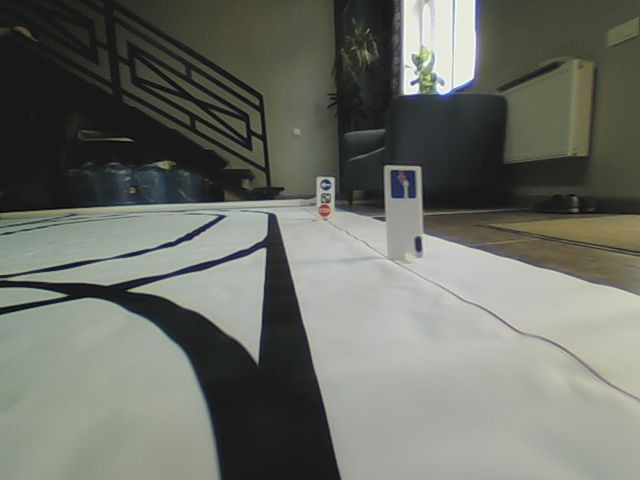priority_movement: (389, 169, 417, 199)
